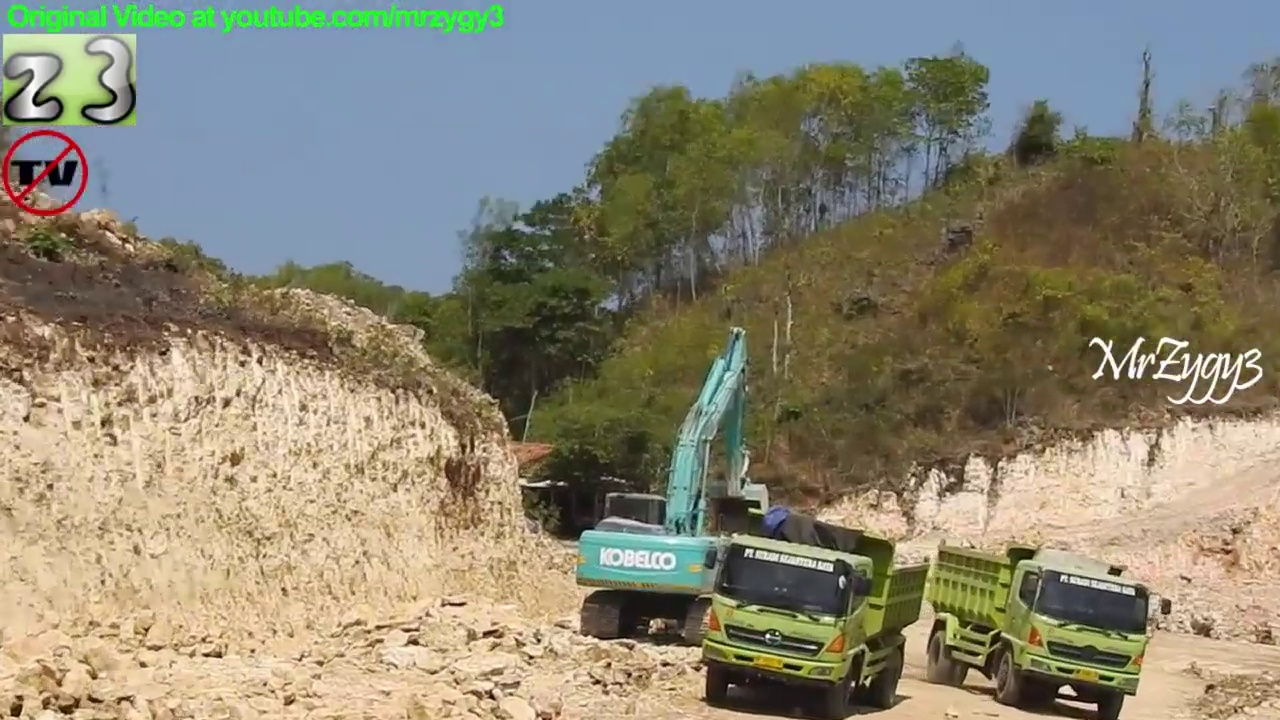excavator: (565, 320, 785, 654)
truck: (696, 502, 932, 720), (923, 536, 1178, 720)
